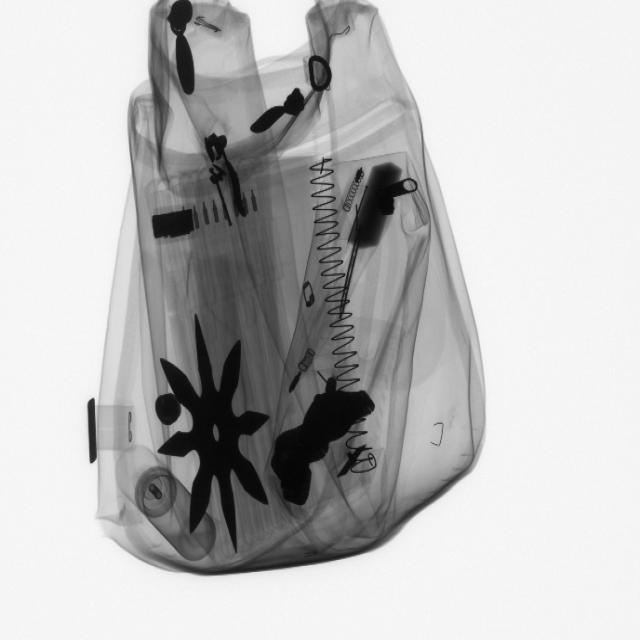BLADE: (340, 231, 368, 326)
SHURIKEN: (160, 313, 274, 556)
